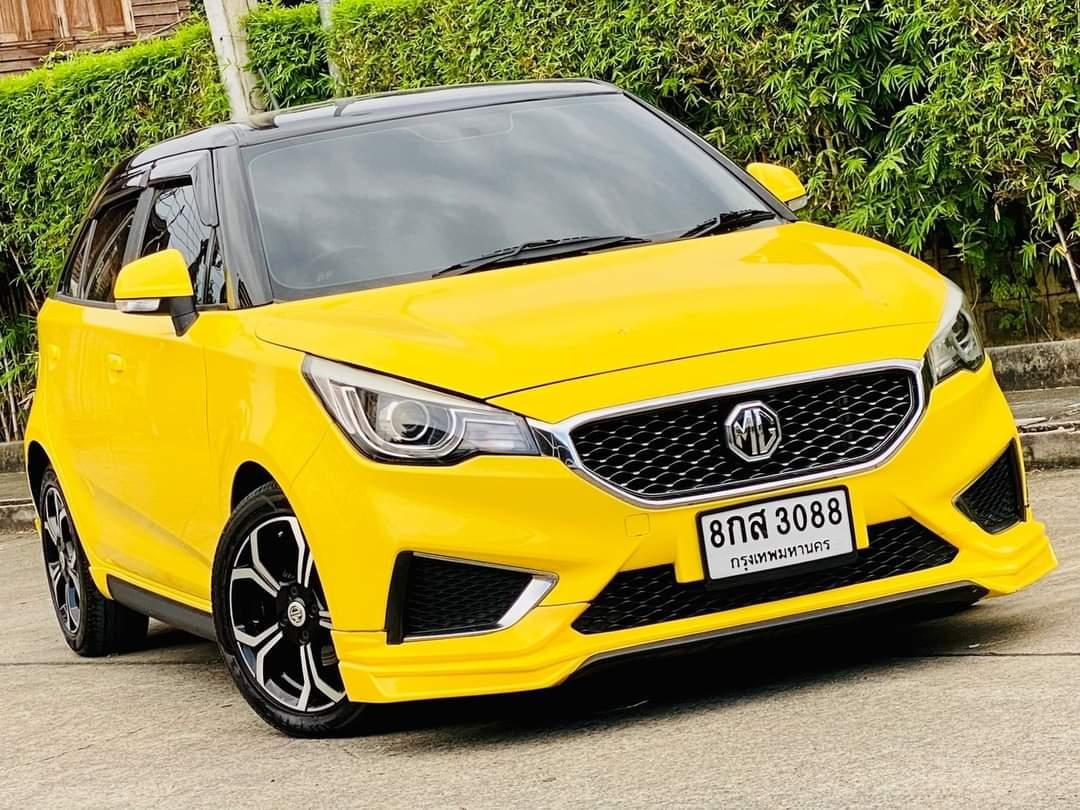license-plate: (693, 482, 859, 582)
